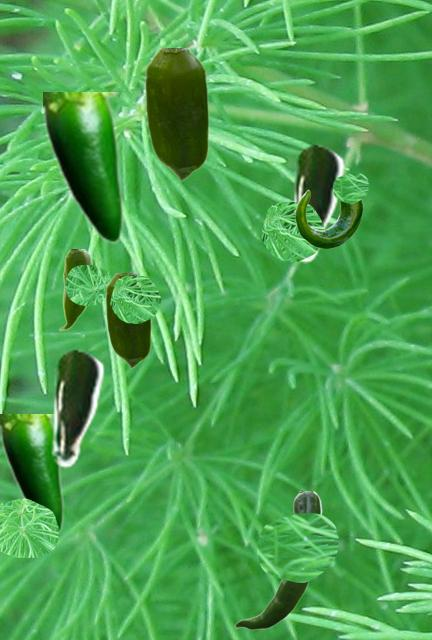green_chili: (43, 92, 123, 243), (234, 491, 321, 629), (144, 48, 208, 180), (0, 414, 63, 533), (288, 143, 344, 262), (48, 348, 104, 467), (105, 273, 150, 367), (295, 189, 362, 247), (58, 249, 91, 330)
